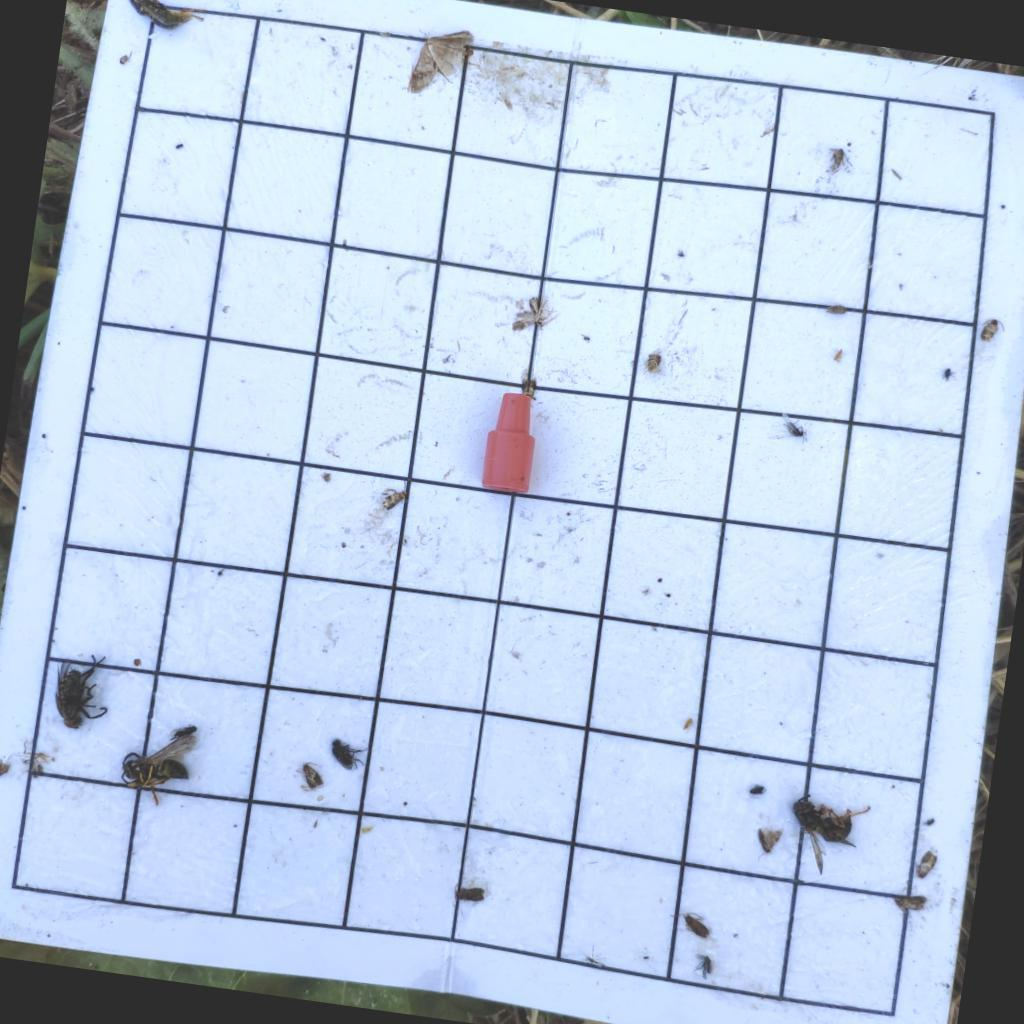grape_moth: (509, 291, 559, 337), (750, 822, 785, 867), (297, 758, 330, 793), (890, 889, 928, 915), (825, 143, 856, 173), (378, 482, 407, 514), (913, 846, 939, 880), (979, 317, 1009, 346), (642, 349, 665, 378), (519, 376, 542, 402), (824, 301, 848, 316)
